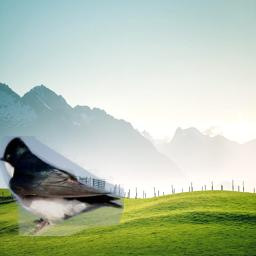Swallow: (0, 136, 124, 236)
